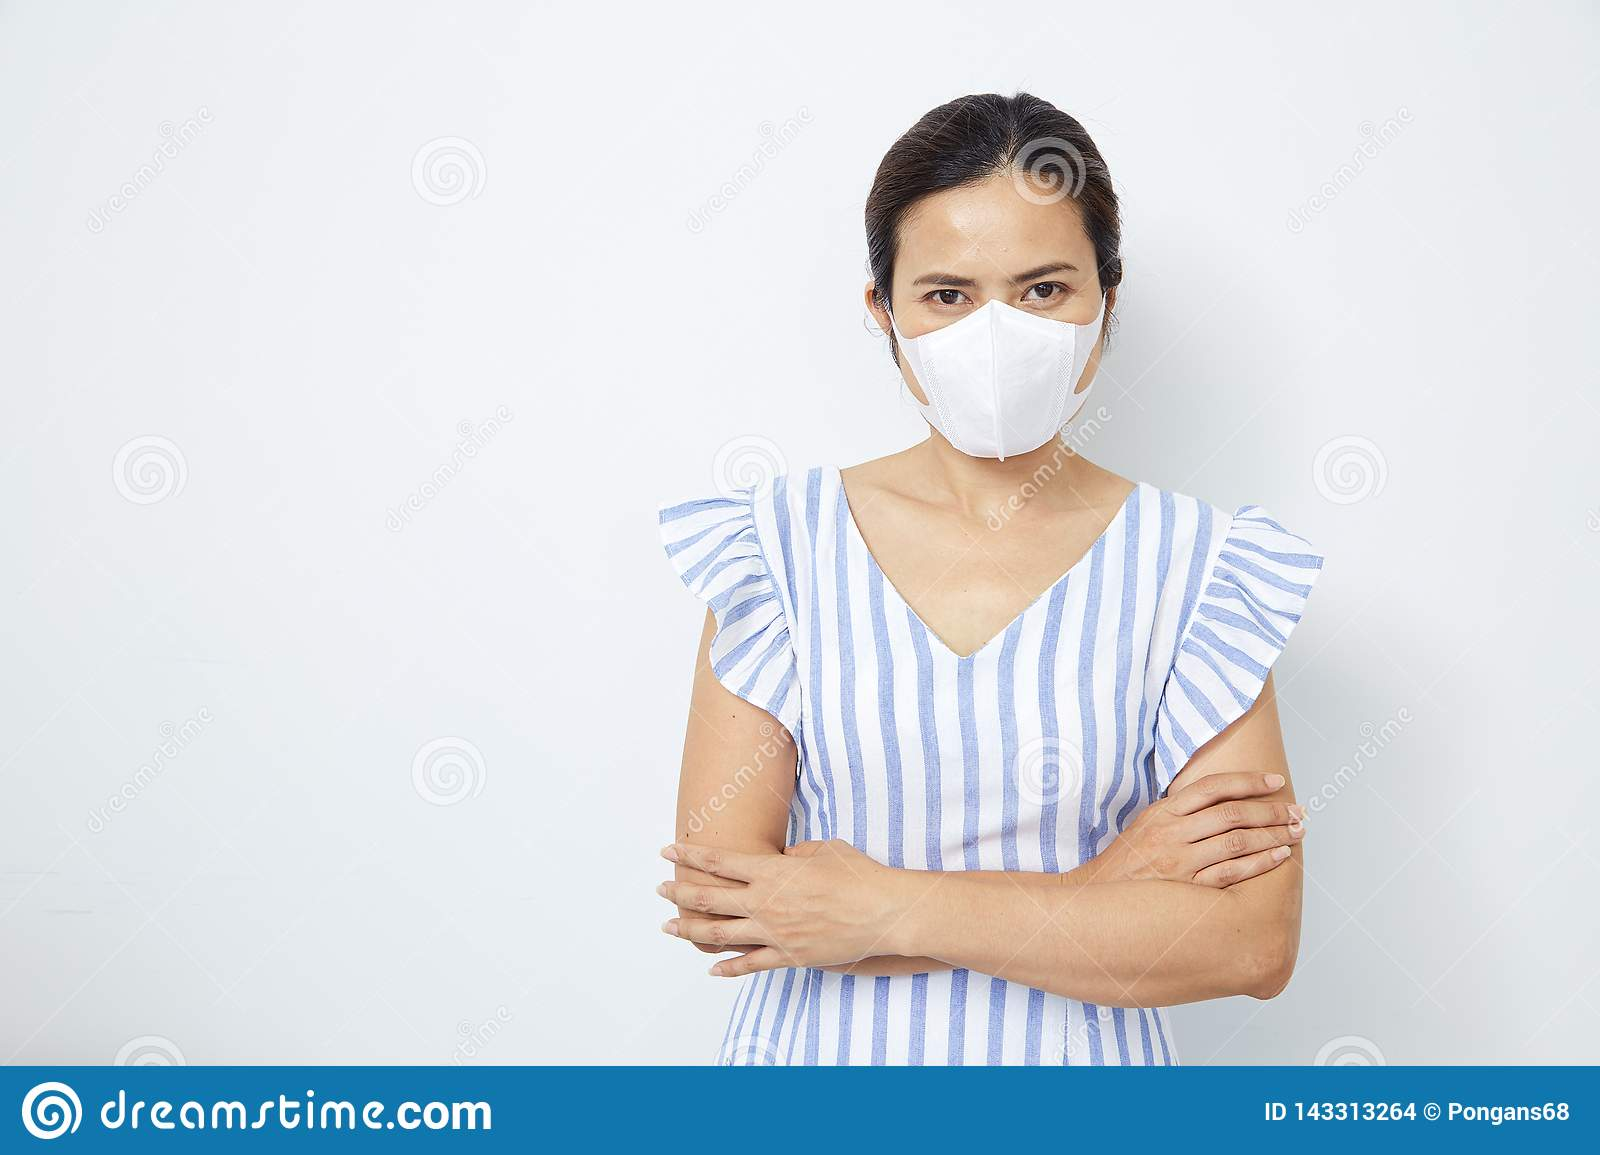mask: (908, 294, 1091, 455)
